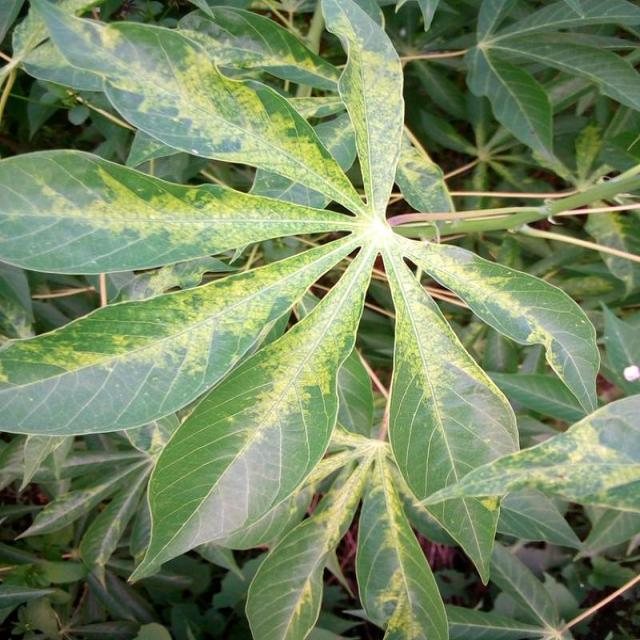Mosaico: (60, 14, 571, 463), (159, 388, 610, 612)
